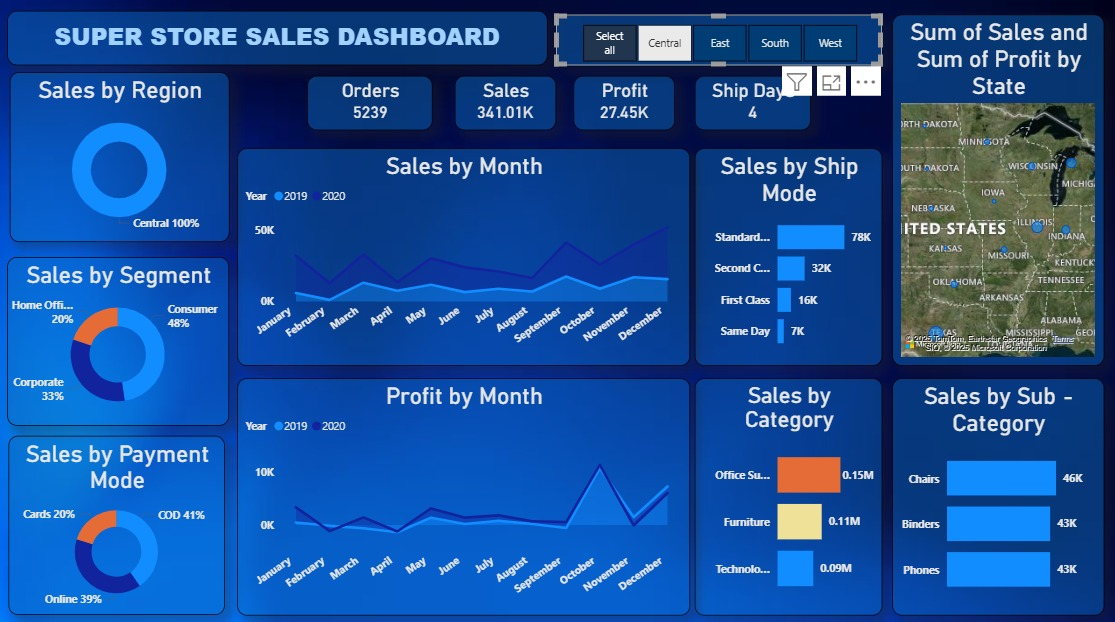

Layout of this report page (visuals, bound fields, positions):
{"tool":"powerbi","page":{"name":"Page 1","canvas":[1280,720],"ordinal":0},"visuals":[{"type":"clusteredBarChart","title":"Sales by Category","fields":{"Category":["SuperStore_Sales_Dataset.Category"],"Y":["Sum(SuperStore_Sales_Dataset.Sales)"]},"box":[798.6,414.9,214.9,271.6],"z":0},{"type":"clusteredBarChart","title":"Sales by Sub Category","fields":{"Category":["SuperStore_Sales_Dataset.Sub-Category"],"Y":["Sum(SuperStore_Sales_Dataset.Sales)"]},"box":[1024.3,413.5,241.9,271.6],"z":1000},{"type":"clusteredBarChart","title":"Sales by Ship Mode ","fields":{"Category":["SuperStore_Sales_Dataset.Ship Mode"],"Y":["Sum(SuperStore_Sales_Dataset.Sales)"]},"box":[798.6,155.4,255.4,233.8],"z":2000},{"type":"stackedAreaChart","title":"Monthly Sales by YoY","fields":{"Y":["Sum(SuperStore_Sales_Dataset.Sales)"],"Series":["SuperStore_Sales_Dataset.Order Date.Variation.Date Hierarchy.Year"],"Category":["SuperStore_Sales_Dataset.Order Date.Variation.Date Hierarchy.Month","SuperStore_Sales_Dataset.Order Date.Variation.Date Hierarchy.Day"]},"box":[274.3,158.1,518.9,232.4],"z":3000},{"type":"stackedAreaChart","title":"Monthly Profit by YoY","fields":{"Series":["SuperStore_Sales_Dataset.Order Date.Variation.Date Hierarchy.Year"],"Category":["SuperStore_Sales_Dataset.Order Date.Variation.Date Hierarchy.Month","SuperStore_Sales_Dataset.Order Date.Variation.Date Hierarchy.Day"],"Y":["Sum(SuperStore_Sales_Dataset.Profit)"]},"box":[274.3,413.5,517.6,271.6],"z":4000},{"type":"map","fields":{"Category":["SuperStore_Sales_Dataset.State"],"Size":["Sum(SuperStore_Sales_Dataset.Sales)"]},"box":[1063.5,18.9,202.7,371.6],"z":5000},{"type":"donutChart","fields":{"Category":["SuperStore_Sales_Dataset.Segment"],"Y":["Sum(SuperStore_Sales_Dataset.Sales)"]},"box":[13.5,155.4,247.3,232.4],"z":6000},{"type":"donutChart","fields":{"Category":["SuperStore_Sales_Dataset.Payment Mode"],"Y":["Sum(SuperStore_Sales_Dataset.Sales)"]},"box":[13.5,413.5,247.3,271.6],"z":7000},{"type":"slicer","fields":{"Values":["SuperStore_Sales_Dataset.Region"]},"box":[720.3,18.9,324.3,117.6],"z":8000},{"type":"textbox","box":[22.9,19.3,687.7,53.1],"z":9000},{"type":"card","title":"Sales","fields":{"Values":["Sum(SuperStore_Sales_Dataset.Sales)"]},"box":[57.9,83.2,124.3,62.7],"z":10000},{"type":"card","title":"Quantity","fields":{"Values":["Sum(SuperStore_Sales_Dataset.Quantity)"]},"box":[212.3,82,124.3,62.7],"z":11000},{"type":"card","title":"Profit ","fields":{"Values":["Sum(SuperStore_Sales_Dataset.Profit)"]},"box":[354.7,83.2,124.3,62.7],"z":12000},{"type":"card","title":"Avg Delivery Time","fields":{"Values":["Avg(SuperStore_Sales_Dataset.AvgDelivery)"]},"box":[503.1,83.2,156.8,60.3],"z":13000}]}

Visuals, with their boxes in screenshot pixels (x1, y1, x2, y2), scaled from the page's 1280x720 canvas onto the 1115x622 screenshot:
"Sales by Category" clusteredBarChart: BBox(696, 358, 883, 593)
"Sales by Sub Category" clusteredBarChart: BBox(892, 357, 1103, 592)
"Sales by Ship Mode " clusteredBarChart: BBox(696, 134, 918, 336)
"Monthly Sales by YoY" stackedAreaChart: BBox(239, 137, 691, 337)
"Monthly Profit by YoY" stackedAreaChart: BBox(239, 357, 690, 592)
map - SuperStore_Sales_Dataset.State x Sum(SuperStore_Sales_Dataset.Sales): BBox(926, 16, 1103, 337)
donutChart - SuperStore_Sales_Dataset.Segment x Sum(SuperStore_Sales_Dataset.Sales): BBox(12, 134, 227, 335)
donutChart - SuperStore_Sales_Dataset.Payment Mode x Sum(SuperStore_Sales_Dataset.Sales): BBox(12, 357, 227, 592)
slicer - SuperStore_Sales_Dataset.Region: BBox(627, 16, 910, 118)
textbox: BBox(20, 17, 619, 63)
"Sales" card: BBox(50, 72, 159, 126)
"Quantity" card: BBox(185, 71, 293, 125)
"Profit " card: BBox(309, 72, 417, 126)
"Avg Delivery Time" card: BBox(438, 72, 575, 124)
